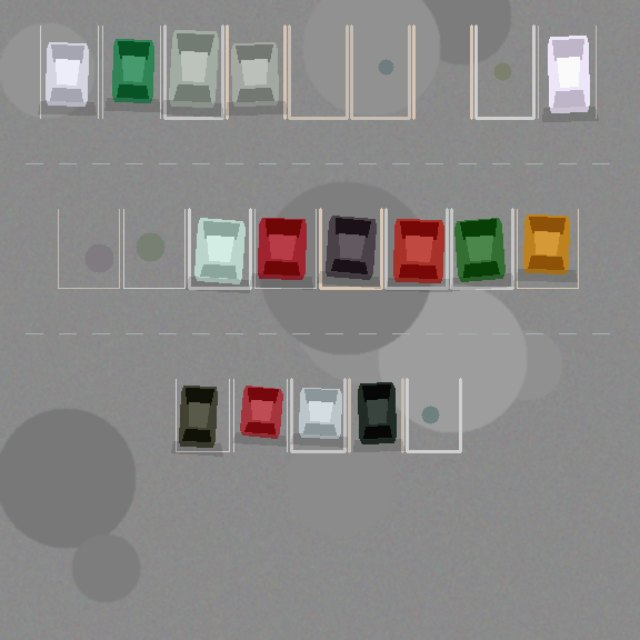space-empty: (289, 26, 347, 118), (351, 26, 409, 118), (413, 26, 471, 118), (476, 26, 533, 118), (58, 209, 119, 288), (123, 209, 184, 288), (407, 379, 460, 451)
space-occupied: (40, 26, 98, 118), (102, 26, 160, 118), (164, 26, 222, 118), (538, 26, 596, 118), (227, 26, 284, 118), (254, 209, 316, 288), (189, 209, 250, 288), (320, 209, 381, 288), (386, 209, 447, 288), (451, 209, 512, 288), (517, 209, 578, 288), (233, 379, 287, 451), (176, 379, 229, 451), (291, 379, 344, 451), (349, 379, 402, 451)
